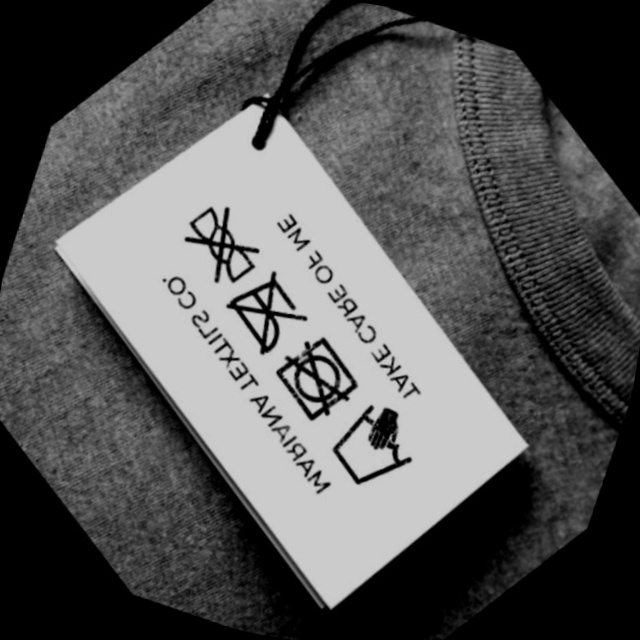DN_iron: (218, 260, 317, 364)
DN_tumble_dry: (269, 325, 374, 430)
DN_wring: (172, 193, 274, 292)
hand_wash: (320, 390, 430, 507)
